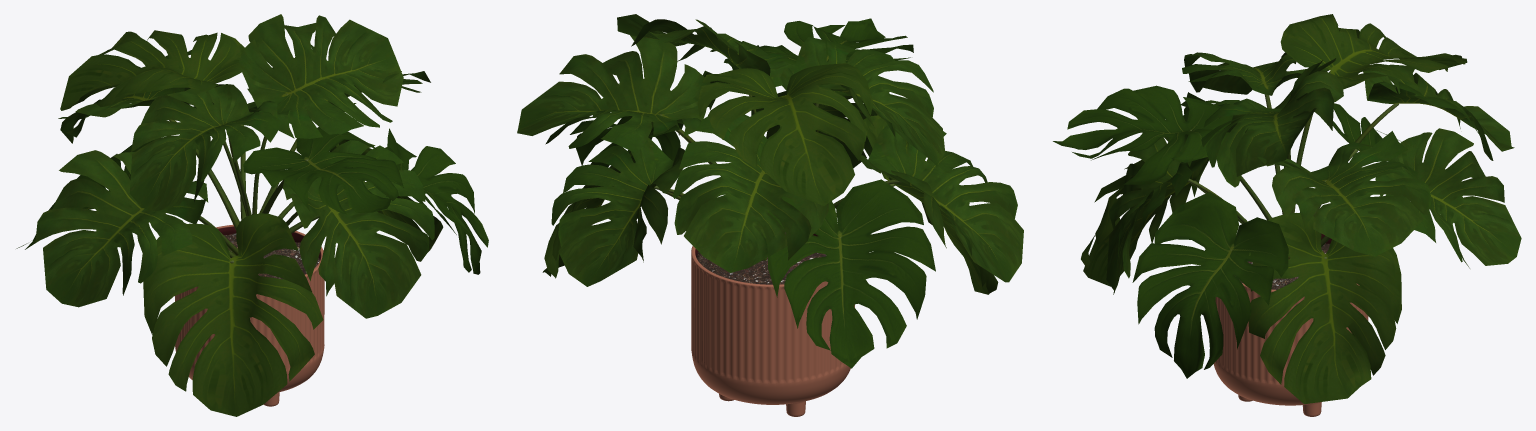
The model's file is PLANTA.glb.
3 views of the same model, side by side, from view 1: azimuth 30°, elevation 25°; view 2: azimuth 150°, elevation 25°; view 3: azimuth 270°, elevation 25° (orthographic). The views are drawn at different scales.
Parts seen in each view (by area): view 1: MONSTERA_BIG, B_TERRACOTTA_PLANTER_VAR02; view 2: MONSTERA_BIG, B_TERRACOTTA_PLANTER_VAR02; view 3: MONSTERA_BIG, B_TERRACOTTA_PLANTER_VAR02.
Part boxes in pixels (left/top/right/bottom): MONSTERA_BIG: left=16, top=14, right=488, bottom=416; B_TERRACOTTA_PLANTER_VAR02: left=175, top=224, right=324, bottom=406; MONSTERA_BIG: left=517, top=14, right=1023, bottom=368; B_TERRACOTTA_PLANTER_VAR02: left=691, top=232, right=854, bottom=416; MONSTERA_BIG: left=1053, top=14, right=1521, bottom=404; B_TERRACOTTA_PLANTER_VAR02: left=1213, top=233, right=1368, bottom=416.
Size of the model in its own units: 2.2 by 1.78 by 2.08.
2 materials, 2 textured.
